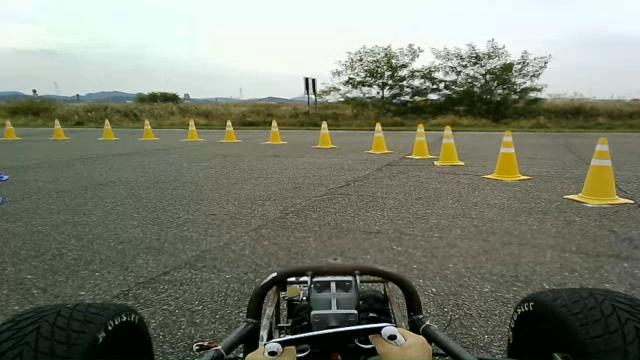blue cone: (0, 173, 9, 181)
yellow cone: (563, 136, 634, 205), (480, 130, 532, 181), (433, 125, 465, 166), (404, 123, 438, 159), (364, 122, 394, 154), (311, 120, 337, 148), (180, 118, 205, 142), (218, 119, 242, 143), (262, 120, 286, 144), (97, 118, 119, 140), (138, 118, 160, 140), (0, 118, 22, 140), (48, 119, 70, 140)
